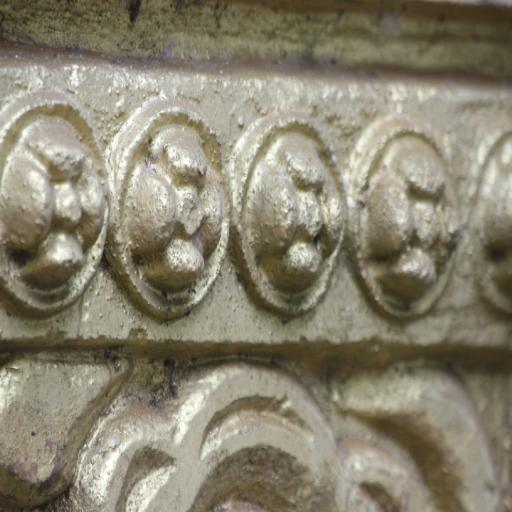hoa: (228, 104, 345, 319), (110, 98, 226, 314), (0, 97, 112, 310), (345, 109, 458, 313), (462, 114, 512, 320)
